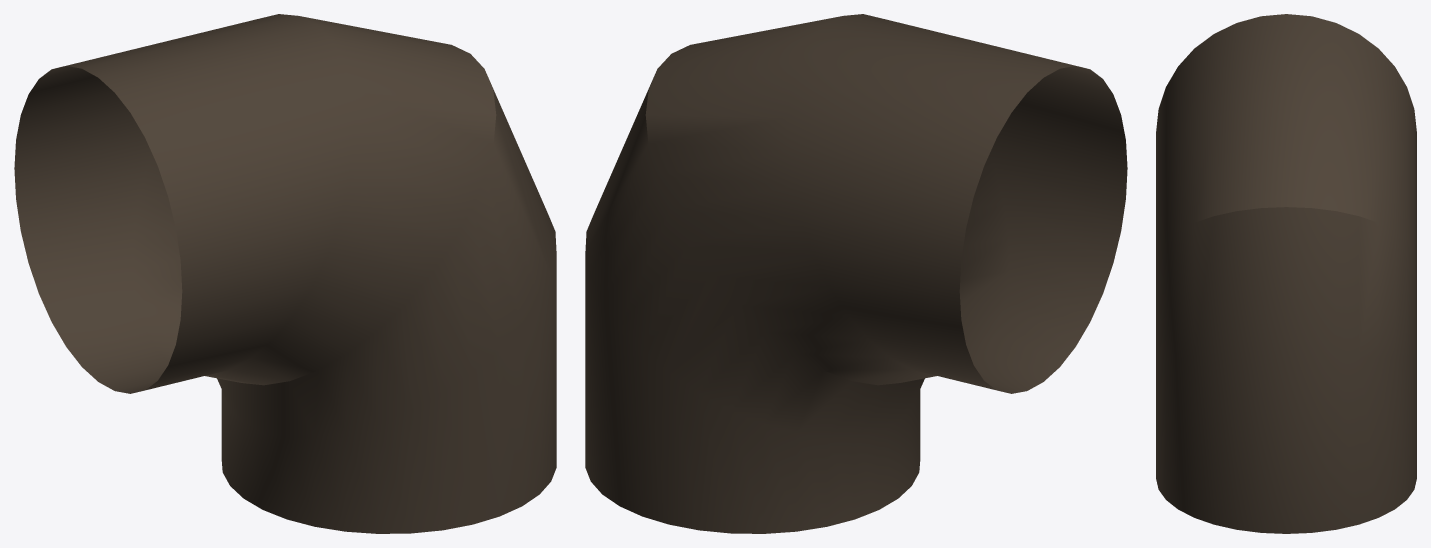
Rendered from Pipe02.fbx.
3 views of the same model, side by side, from view 1: azimuth 30°, elevation 25°; view 2: azimuth 150°, elevation 25°; view 3: azimuth 270°, elevation 25° (orthographic). The views are drawn at different scales.
Parts seen in each view (by area): view 1: Elbow Joint.004; view 2: Elbow Joint.004; view 3: Elbow Joint.004.
Part boxes in pixels (bbox=[...]): Elbow Joint.004: bbox=[14, 14, 556, 533]; Elbow Joint.004: bbox=[585, 14, 1127, 533]; Elbow Joint.004: bbox=[1156, 14, 1416, 533].
Size of the model in its own units: 6000 by 6000 by 4000.
